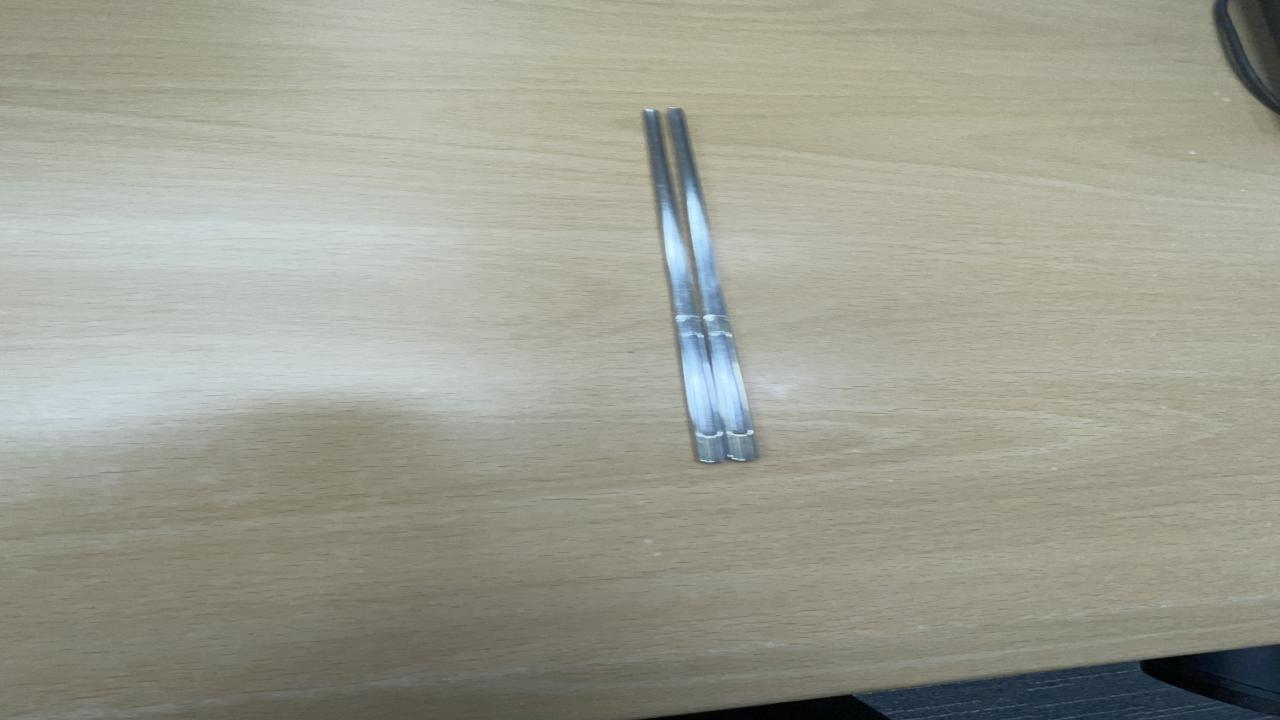chopstick: (624, 104, 772, 466)
